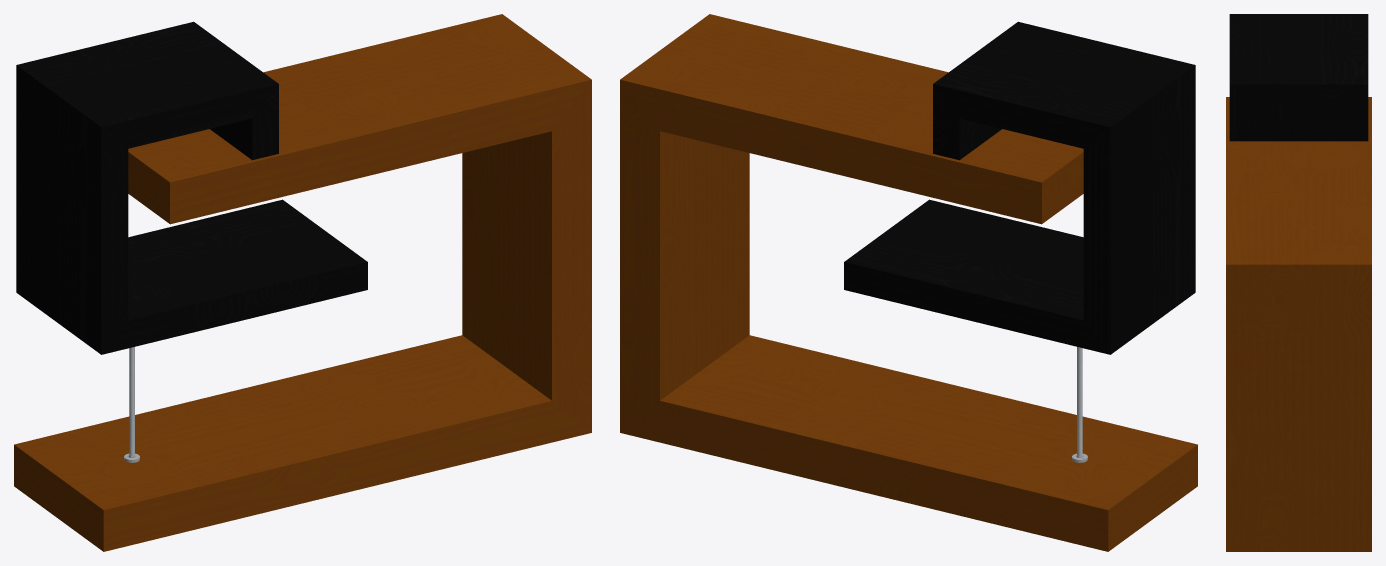
3 renders of one model, left to right at view 1: azimuth 30°, elevation 25°; view 2: azimuth 150°, elevation 25°; view 3: azimuth 270°, elevation 25°, orthographic. The views are drawn at different scales.
Parts seen in each view (by area): view 1: castanho_low_01, preto_low_01; view 2: castanho_low_01, preto_low_01; view 3: castanho_low_01, preto_low_01.
Part boxes in pixels (<box>): castanho_low_01: <box>14,14,591,551</box>; preto_low_01: <box>16,21,367,354</box>; castanho_low_01: <box>620,14,1197,551</box>; preto_low_01: <box>844,21,1195,354</box>; castanho_low_01: <box>1226,97,1371,551</box>; preto_low_01: <box>1229,14,1368,141</box>.
Size of the model in its own units: 1.68 by 1.39 by 0.5352.
Materials: 1 (1 with a texture image).
